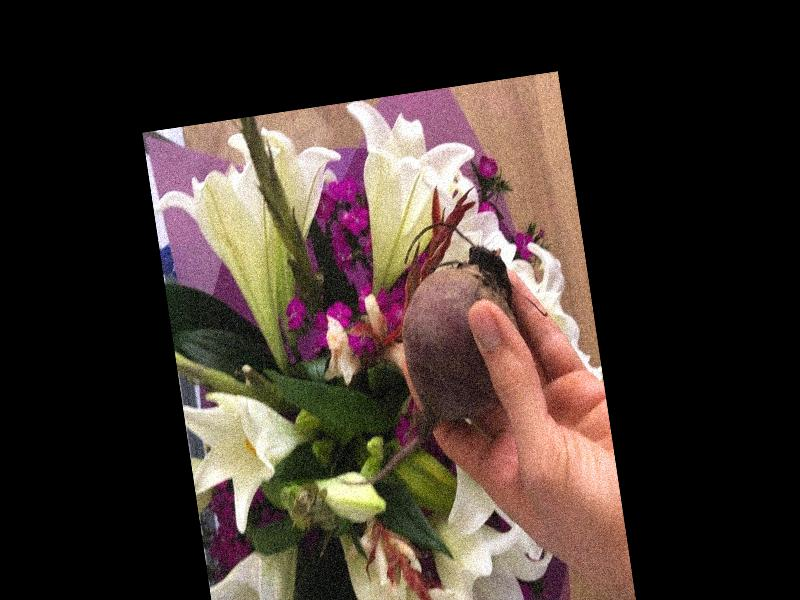Beet: (304, 213, 537, 489)
